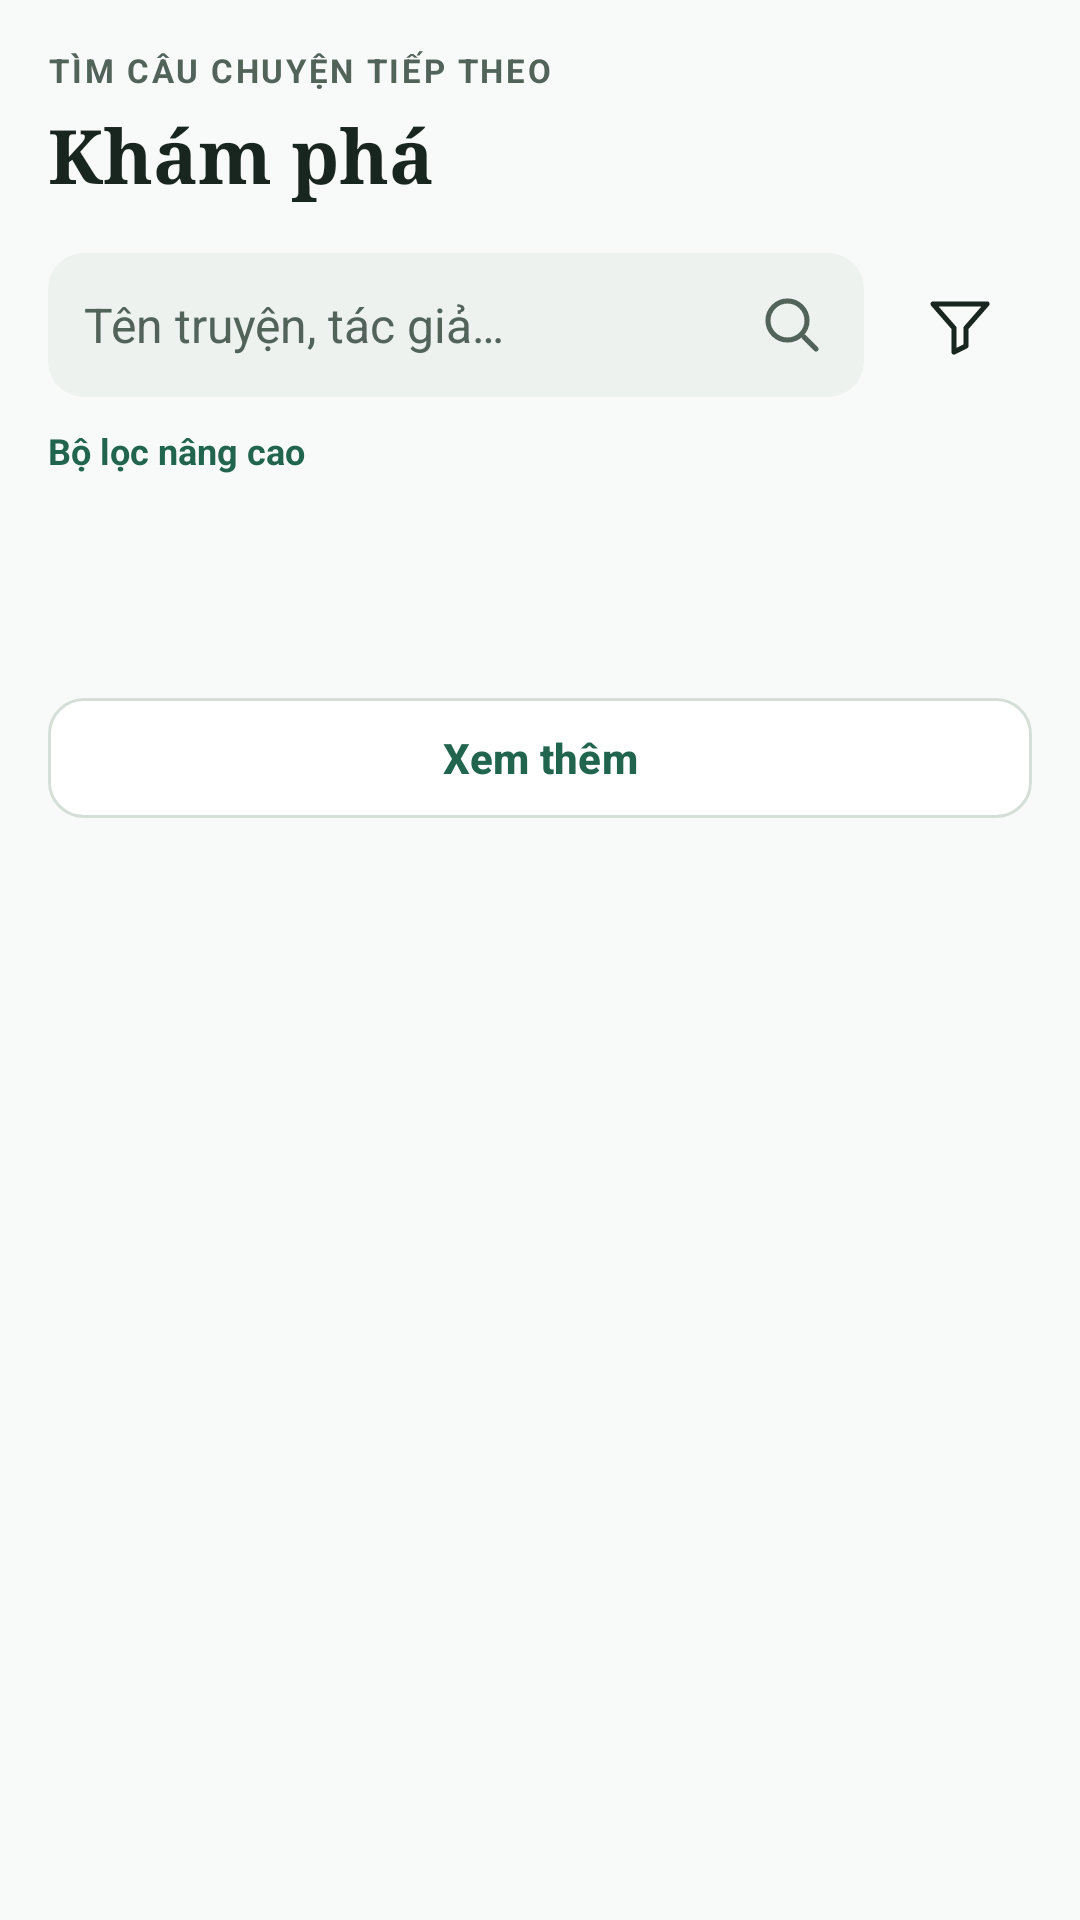

Locate icon controls on the screen. Image size 1080 x 1920, boxes as (x1, y1, x2, y2).
Mở bộ lọc nâng cao: (930, 301, 990, 355)
